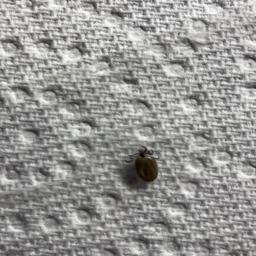Ixodes scapularis: (128, 146, 162, 181)
